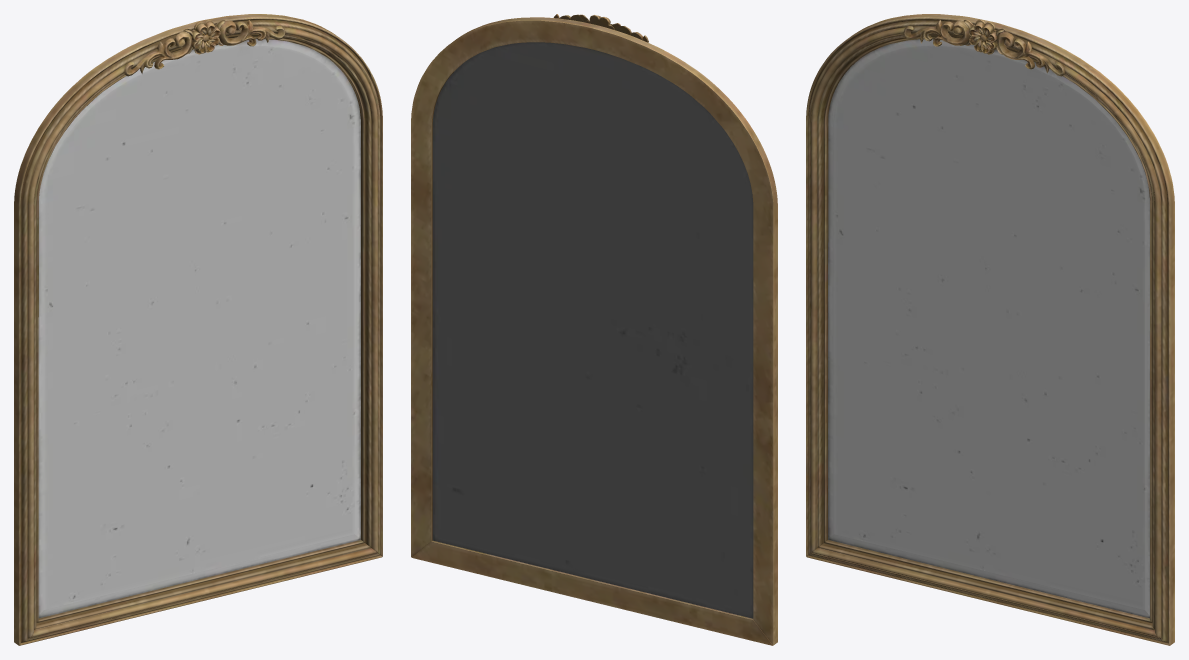
File: ornate_mirror_01.glb
3 views of the same model, side by side, from view 1: azimuth 30°, elevation 25°; view 2: azimuth 150°, elevation 25°; view 3: azimuth 330°, elevation 25° (orthographic).
Visible parts, largest first — view 1: ornate_mirror_01; view 2: ornate_mirror_01; view 3: ornate_mirror_01.
Boxes of the visible parts, x1,y1,x2,y2 form: ornate_mirror_01: (14,14,382,645); ornate_mirror_01: (411,14,777,645); ornate_mirror_01: (806,14,1174,645).
Bounding box in the file's own units: 0.4865 × 0.7442 × 0.026.
1 material, 1 textured.
